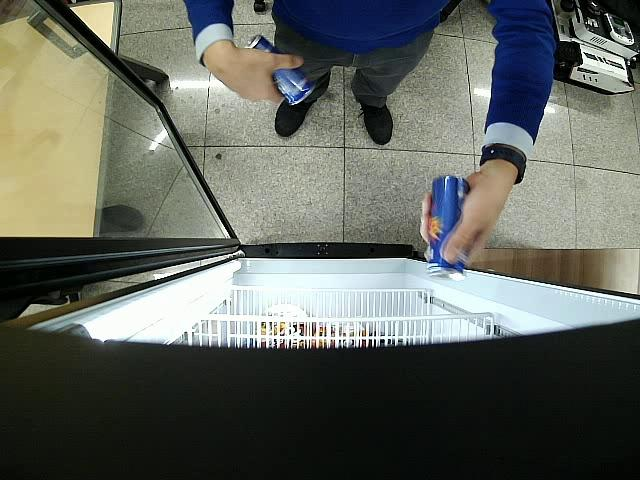00_hand: (422, 167, 517, 265), (209, 44, 305, 103)
16_hot6: (426, 175, 471, 281), (247, 35, 314, 105)
